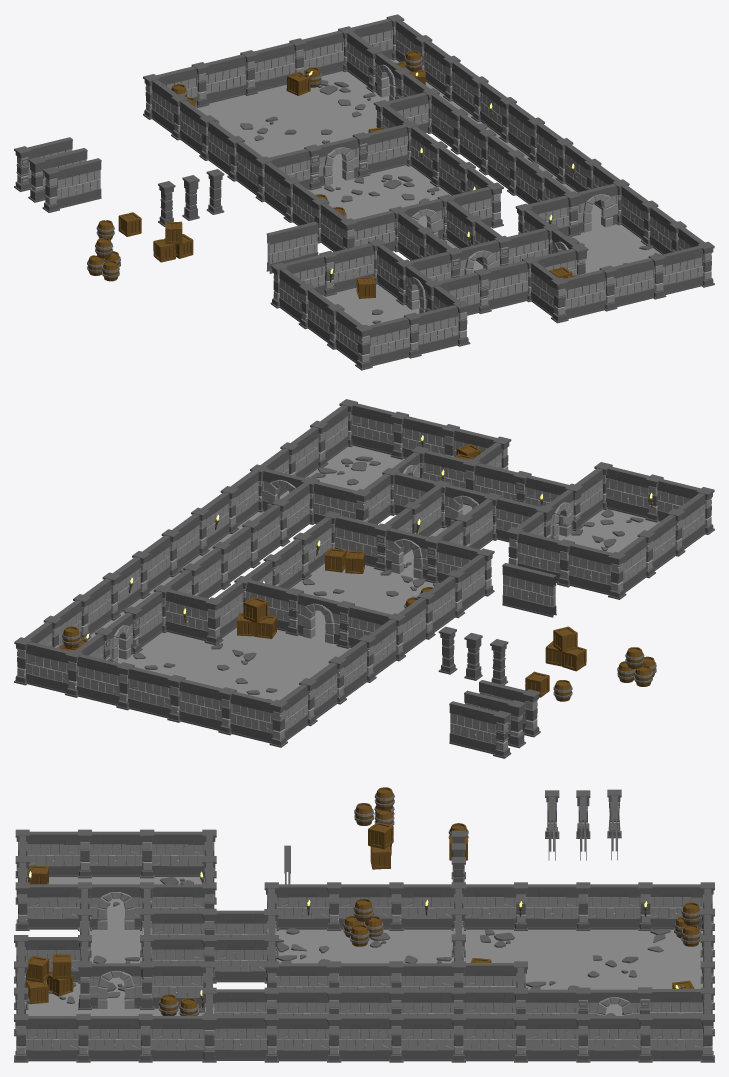
The model's file is ModularDungeon.fbx.
3 renders of one model, top to bottom at view 1: azimuth 30°, elevation 25°; view 2: azimuth 150°, elevation 25°; view 3: azimuth 270°, elevation 25°, orthographic. The views are drawn at different scales.
Parts seen in each view (by area): view 1: Pillar.003, Pillar.035, Pillar.041, Pillar.049, Pillar.007, Pillar.068, Pillar.034, Pillar.031, Pillar.067, Pillar.025, Pillar.006, Pillar.022 (+76 smaller); view 2: Pillar.005, Pillar.075, Pillar.022, Pillar.066, Pillar.067, Pillar.068, Pillar.063, Pillar.069, Pillar.034, Pillar.006, Pillar.012, Pillar.031 (+81 smaller); view 3: Pillar.046, Pillar.037, Pillar.048, Pillar.051, Pillar.058, Pillar.047, Pillar.054, Pillar.056, Pillar.061, Pillar.062, Pillar.072, Pillar.060 (+66 smaller).
Boxes of the visible parts, <box> form: Pillar.003: <box>42,158,101,212</box>; Pillar.035: <box>355,317,410,370</box>; Pillar.041: <box>613,253,666,307</box>; Pillar.049: <box>564,265,617,318</box>; Pillar.007: <box>352,124,408,177</box>; Pillar.068: <box>205,50,257,103</box>; Pillar.034: <box>404,305,459,358</box>; Pillar.031: <box>319,243,374,296</box>; Pillar.067: <box>254,38,306,91</box>; Pillar.025: <box>487,256,539,309</box>; Pillar.006: <box>304,137,359,190</box>; Pillar.022: <box>266,221,318,273</box>; Pillar.005: <box>449,701,511,758</box>; Pillar.075: <box>165,589,223,645</box>; Pillar.022: <box>502,563,556,617</box>; Pillar.066: <box>65,650,120,705</box>; Pillar.067: <box>116,662,171,718</box>; Pillar.068: <box>167,674,222,730</box>; Pillar.063: <box>14,637,69,693</box>; Pillar.069: <box>218,687,273,743</box>; Pillar.034: <box>606,466,663,522</box>; Pillar.006: <box>297,593,354,648</box>; Pillar.012: <box>374,523,428,578</box>; Pillar.031: <box>517,531,574,587</box>; Pillar.046: <box>138,1014,204,1062</box>; Pillar.037: <box>89,829,154,878</box>; Pillar.048: <box>14,1014,78,1062</box>; Pillar.051: <box>264,1014,329,1062</box>; Pillar.058: <box>451,1014,516,1062</box>; Pillar.047: <box>76,1014,140,1062</box>; Pillar.054: <box>327,1014,391,1062</box>; Pillar.056: <box>389,1014,453,1062</box>; Pillar.061: <box>576,1014,640,1062</box>; Pillar.062: <box>638,1014,702,1062</box>; Pillar.072: <box>525,882,590,930</box>; Pillar.060: <box>514,1014,578,1062</box>.
Bounding box in the file's own units: 3765 × 322 × 4502.
